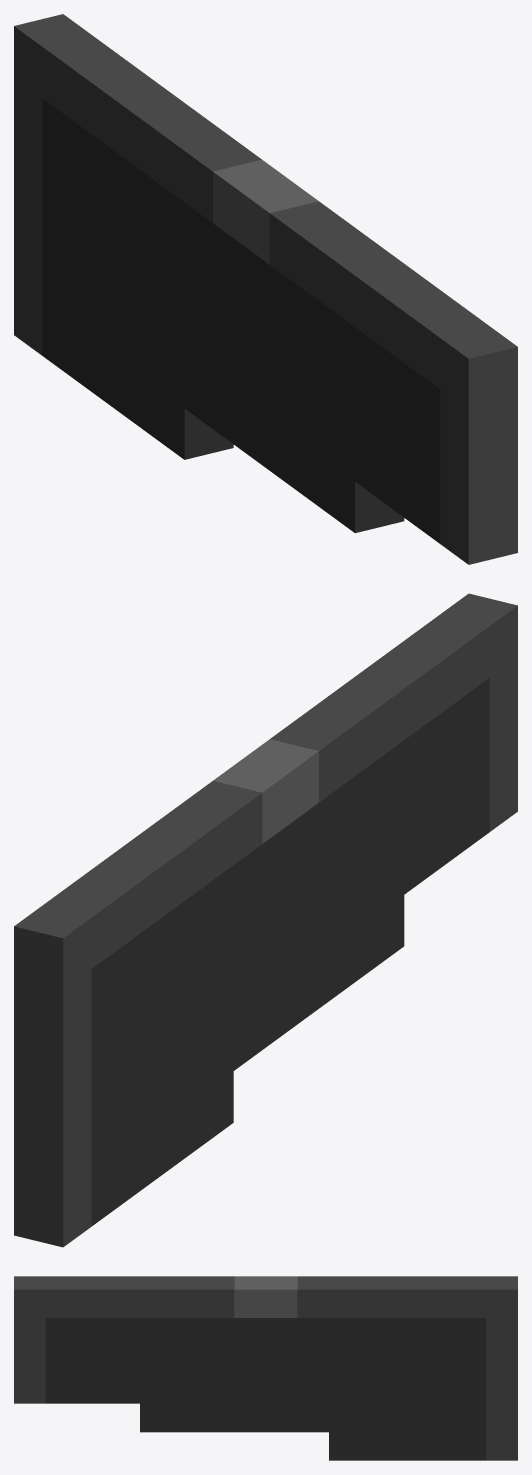
File: Computer2.obj
3 views of the same model, one above another, from view 1: azimuth 30°, elevation 25°; view 2: azimuth 150°, elevation 25°; view 3: azimuth 270°, elevation 25° (orthographic). The views are drawn at different scales.
Visible parts, largest first — view 1: Computer2; view 2: Computer2; view 3: Computer2.
Boxes of the visible parts, x1,y1,x2,y2 form: Computer2: [14, 14, 517, 564]; Computer2: [14, 593, 517, 1247]; Computer2: [14, 1276, 517, 1460].
Size of the model in its own units: 1 by 6 by 16.
1 material, 1 textured.
